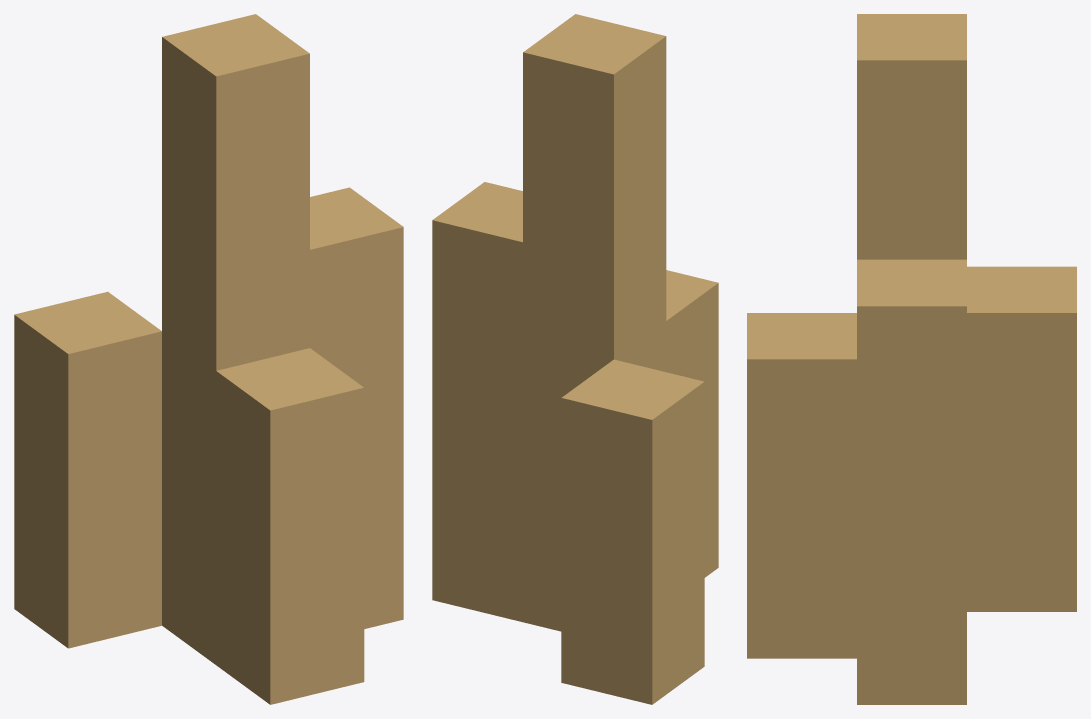
Rendered from Grass_0.obj.
The picture shows the model from 3 angles, left to right: view 1: azimuth 30°, elevation 25°; view 2: azimuth 150°, elevation 25°; view 3: azimuth 270°, elevation 25°; orthographic projection. The views are drawn at different scales.
Visible parts, largest first — view 1: Grass_0; view 2: Grass_0; view 3: Grass_0.
Boxes of the visible parts, x1,y1,x2,y2 form: Grass_0: (14, 14, 403, 704); Grass_0: (432, 14, 718, 704); Grass_0: (747, 14, 1076, 704).
Bounding box in the file's own units: 3 × 6 × 3.
1 material, 1 textured.
